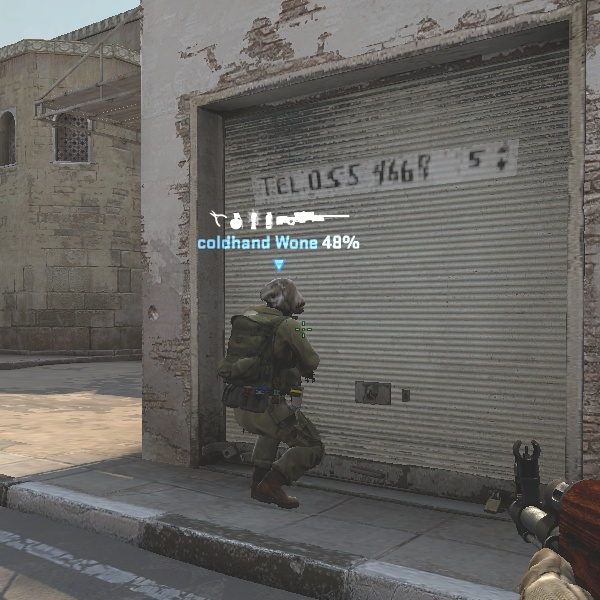ct_body: (209, 272, 333, 509)
ct_head: (256, 274, 309, 323)
